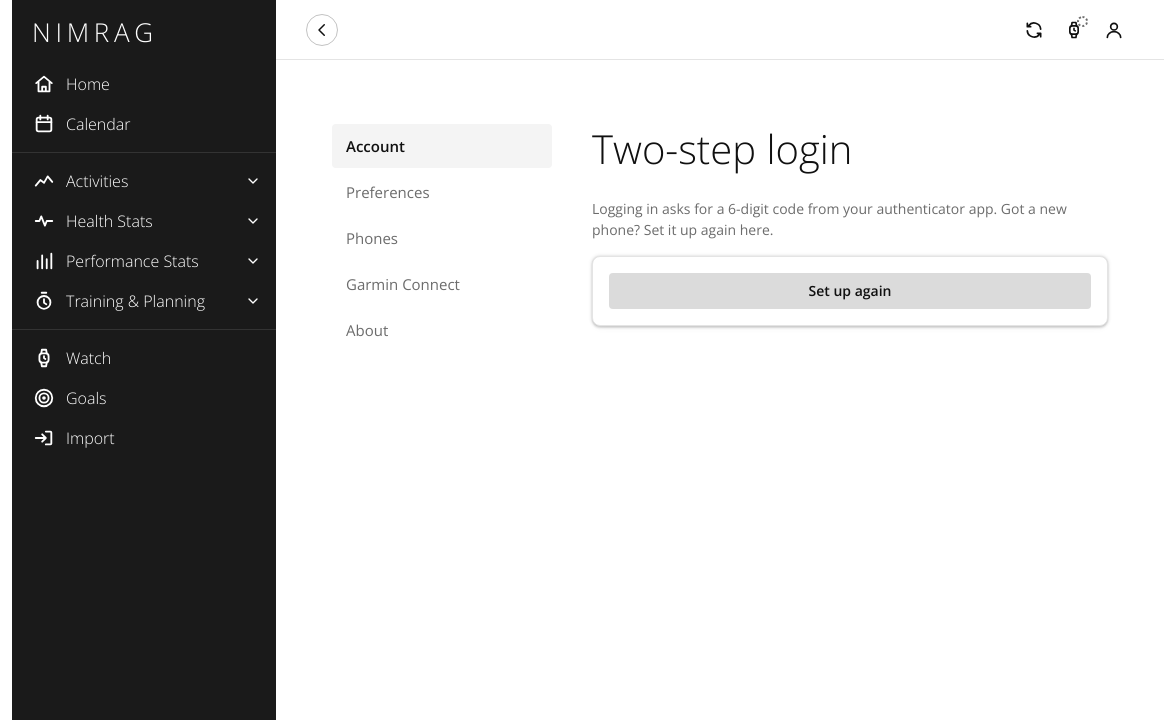
Test: Profile: two-step login › a wrong password (403) stays on the password step
Click the button "Set up again" at (850, 291), box [609,273,1091,309]
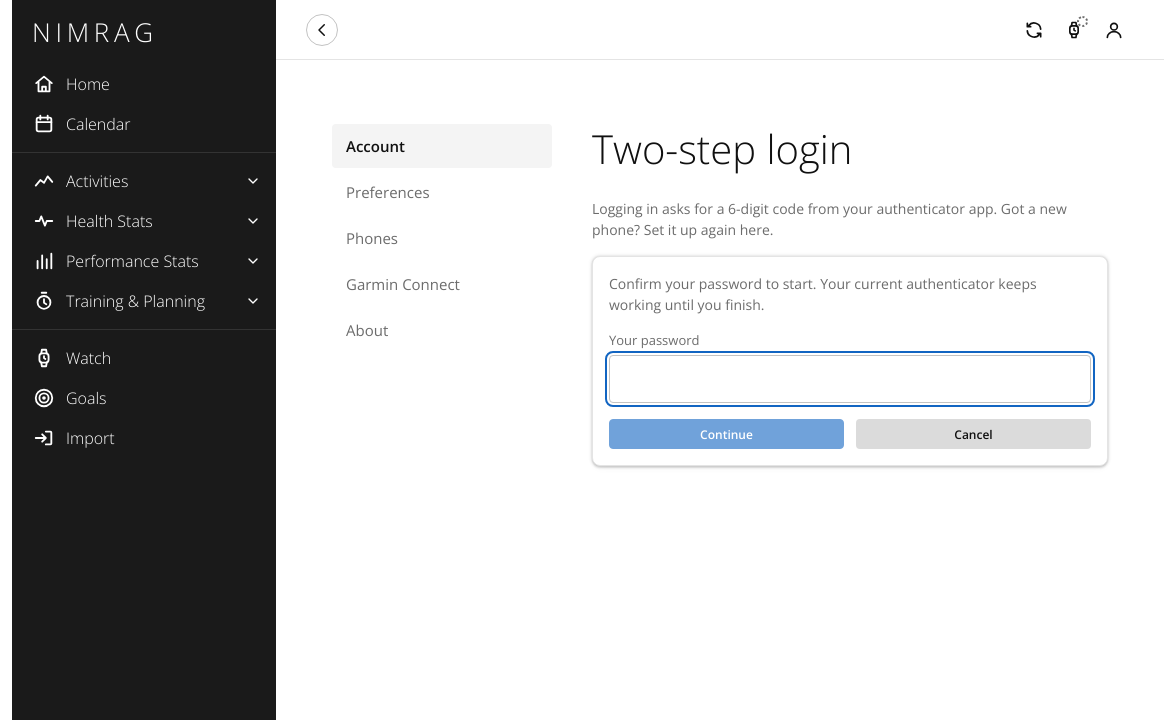
Type "nope" into the password field labelled "Your password" at (850, 379), box [609,355,1091,403]
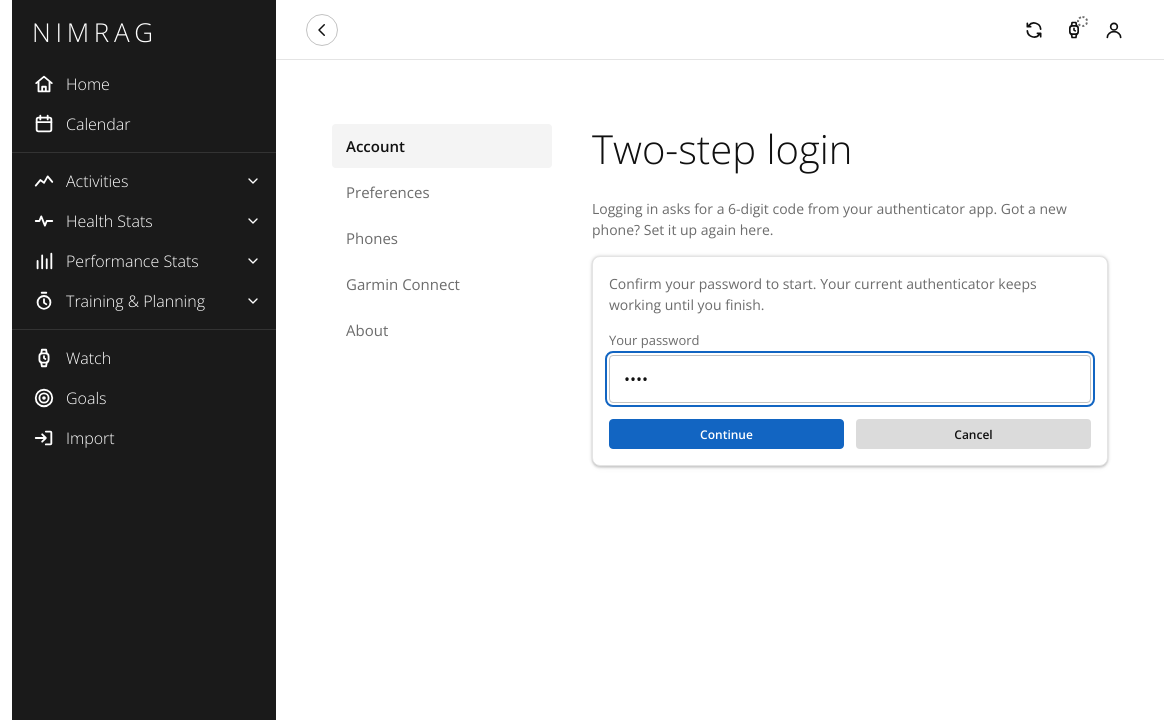
Click the button "Continue" at (726, 434), box [609,419,844,449]
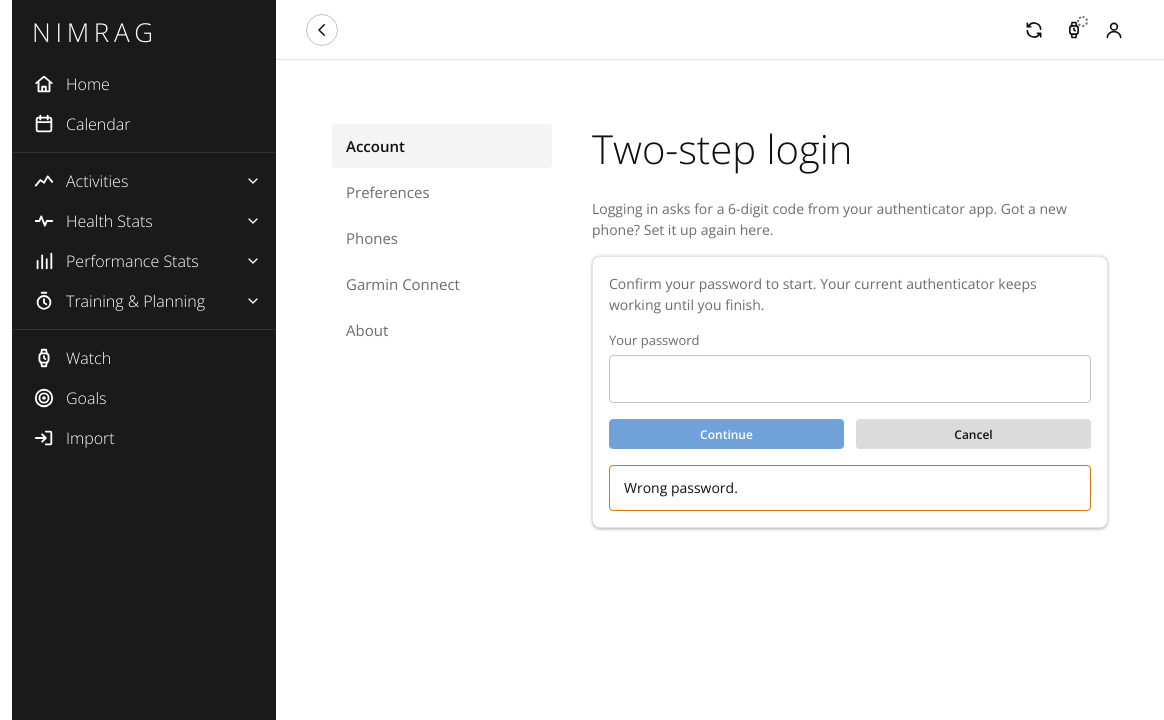
Expected: the message reads "Wrong password.", [624,478,738,497]
Expected: the password field labelled "Your password" is empty, [609,355,1091,403]
